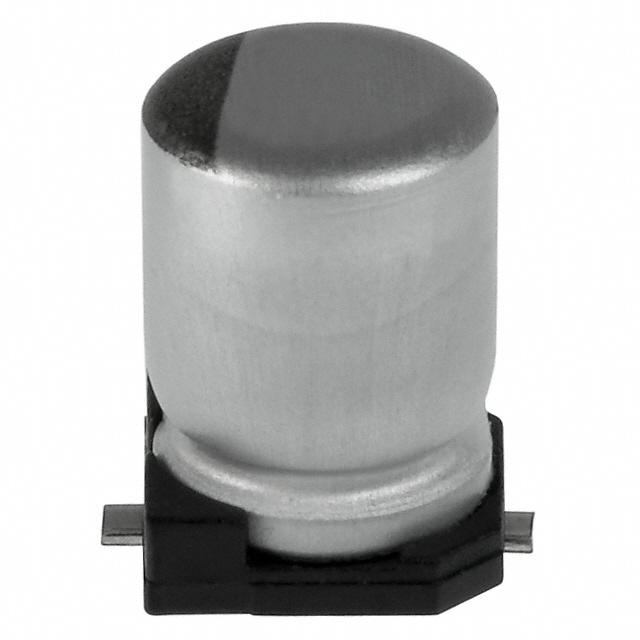Capacitor: (141, 23, 503, 616)
Resistor: (141, 22, 503, 616)
